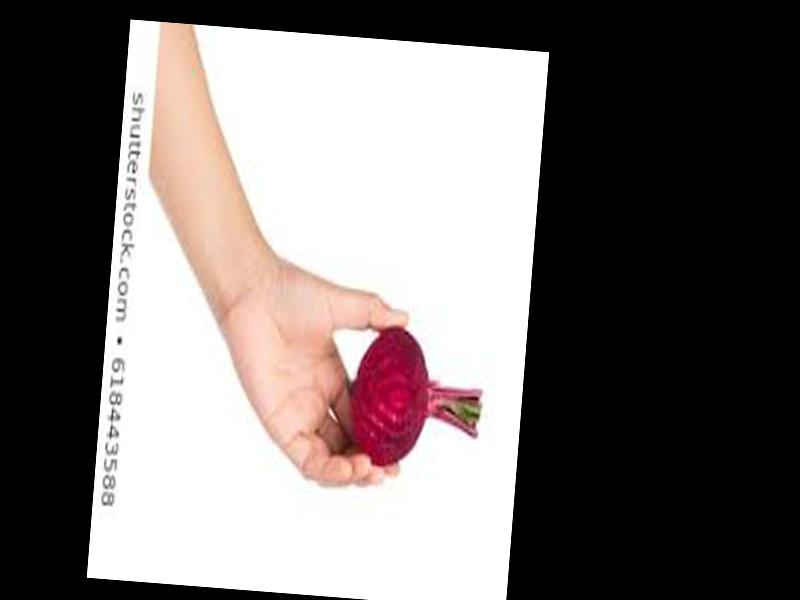Beet: (348, 325, 487, 477)
